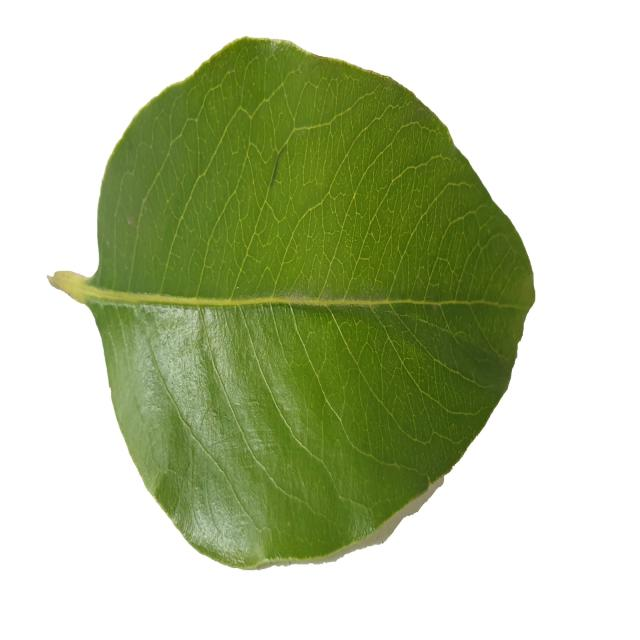Medicinal-Sandalwood: (46, 35, 534, 573)
